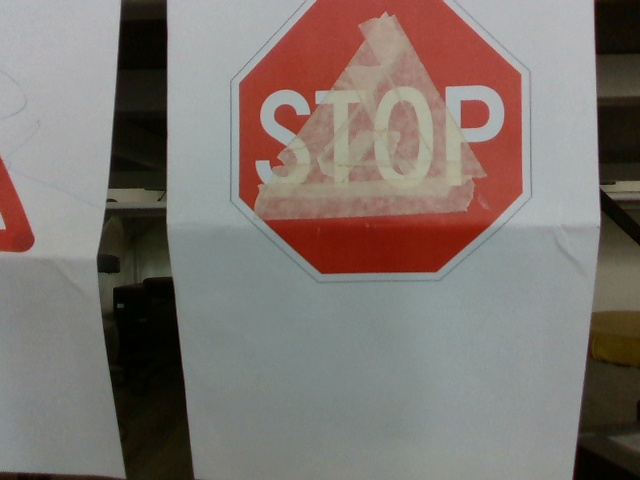stop: (234, 3, 535, 282)
